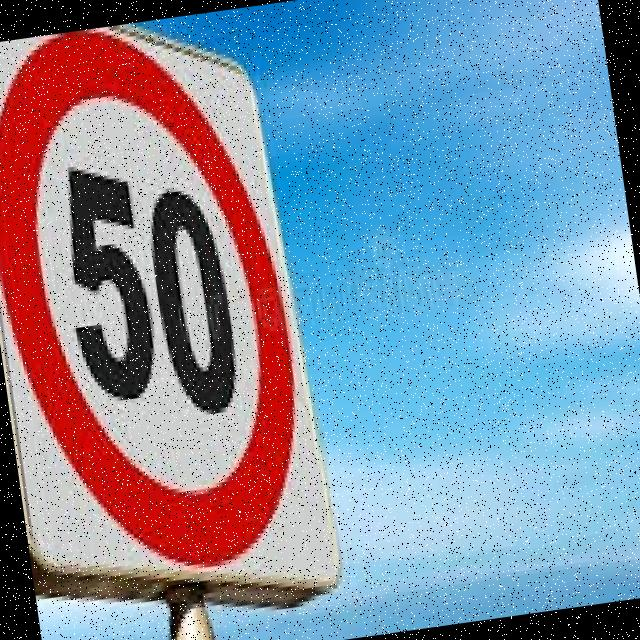speed_limit_50: (0, 7, 327, 600)
